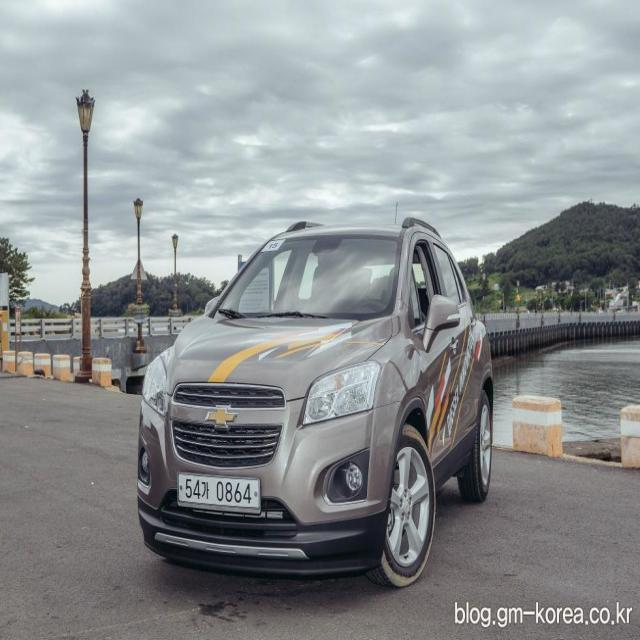car: (136, 208, 500, 598)
illegal_plate: (179, 469, 261, 518)
